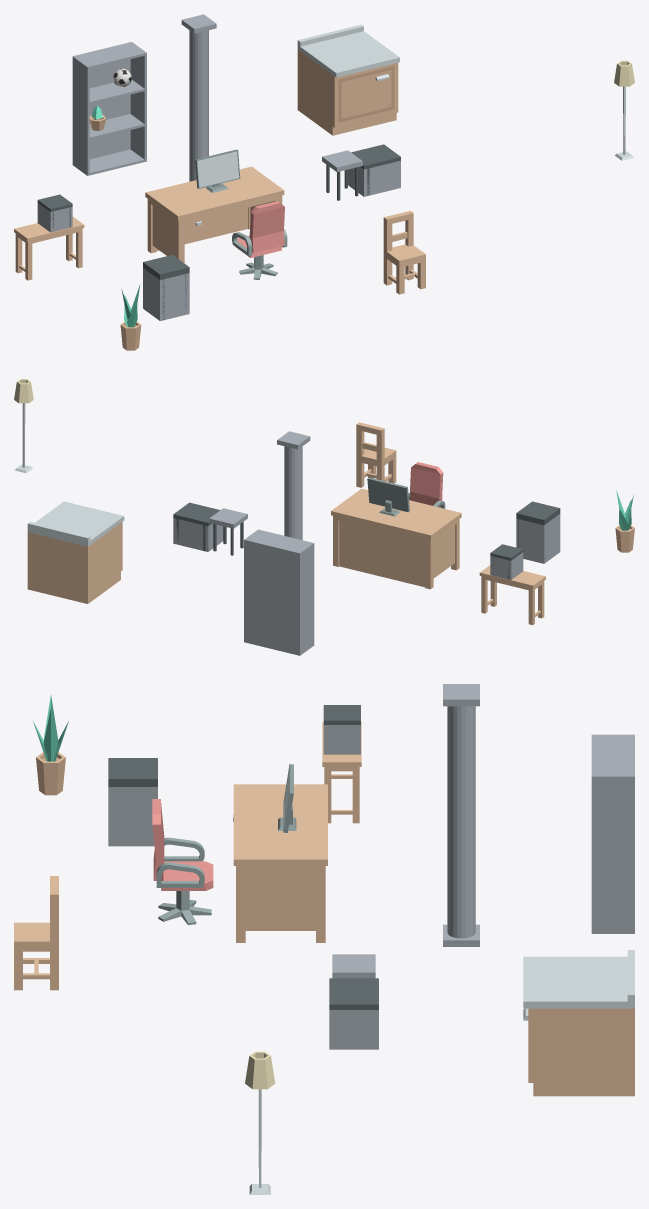
3 renders of one model, top to bottom at view 1: azimuth 30°, elevation 25°; view 2: azimuth 150°, elevation 25°; view 3: azimuth 270°, elevation 25°, orthographic. The views are drawn at different scales.
Visible parts, largest first — view 1: desk_blue__desk(Clone), cabinet_blue__kitchenCabinet(Clone), column_cyan__column_cyan shaft, cabinet_blue__door, chair_cyan__chair(Clone), shelf_orange__shelf_orange back, deskchair_black__chair, shelf_orange__shelf_orange side_l, bin_gray__bin_gray shell, sidetable_brown__sideTable(Clone), monitor_gray__computerScreen(Clone), shelf_orange__shelf_orange side_r (+11 smaller); view 2: desk_blue__desk(Clone), cabinet_blue__kitchenCabinet(Clone), shelf_orange__shelf_orange back, chair_cyan__chair(Clone), shelf_orange__shelf_orange side_l, column_cyan__column_cyan shaft, bin_gray__bin_gray shell, sidetable_brown__sideTable(Clone), deskchair_black__chair, monitor_gray__computerScreen(Clone), crate_red__crate_red shell, lamp_white__lampRoundFloor(Clone) (+7 smaller); view 3: cabinet_blue__kitchenCabinet(Clone), desk_blue__desk(Clone), shelf_orange__shelf_orange side_r, column_cyan__column_cyan shaft, deskchair_black__chair, chair_cyan__chair(Clone), bin_gray__bin_gray shell, crate_red__crate_red shell, sidetable_brown__sideTable(Clone), shelf_orange__shelf_orange board3, crate_red__crate_red lid, lamp_white__lampRoundFloor(Clone) (+9 smaller).
Boxes of the visible parts, x1,y1,x2,y2 form: desk_blue__desk(Clone): (145, 166, 284, 263); cabinet_blue__kitchenCabinet(Clone): (297, 24, 399, 135); column_cyan__column_cyan shaft: (189, 30, 208, 181); cabinet_blue__door: (338, 66, 394, 122); chair_cyan__chair(Clone): (383, 211, 425, 294); shelf_orange__shelf_orange back: (75, 42, 130, 158); deskchair_black__chair: (232, 201, 287, 257); shelf_orange__shelf_orange side_l: (72, 55, 89, 175); bin_gray__bin_gray shell: (143, 268, 189, 320); sidetable_brown__sideTable(Clone): (14, 216, 84, 280); monitor_gray__computerScreen(Clone): (195, 149, 240, 192); shelf_orange__shelf_orange side_r: (130, 42, 146, 161); desk_blue__desk(Clone): (331, 488, 461, 589); cabinet_blue__kitchenCabinet(Clone): (27, 501, 124, 603); shelf_orange__shelf_orange back: (246, 540, 298, 655); chair_cyan__chair(Clone): (356, 422, 396, 487); shelf_orange__shelf_orange side_l: (298, 542, 314, 655); column_cyan__column_cyan shaft: (284, 446, 302, 540); bin_gray__bin_gray shell: (516, 514, 560, 563); sidetable_brown__sideTable(Clone): (479, 565, 545, 625); deskchair_black__chair: (408, 462, 445, 508); monitor_gray__computerScreen(Clone): (367, 477, 409, 516); crate_red__crate_red shell: (173, 518, 223, 551); lamp_white__lampRoundFloor(Clone): (14, 379, 33, 473); cabinet_blue__kitchenCabinet(Clone): (523, 950, 634, 1096); desk_blue__desk(Clone): (233, 784, 327, 942); shelf_orange__shelf_orange side_r: (591, 775, 634, 933); column_cyan__column_cyan shaft: (447, 706, 475, 938); deskchair_black__chair: (152, 799, 213, 890); chair_cyan__chair(Clone): (14, 876, 58, 990); bin_gray__bin_gray shell: (108, 787, 157, 846); crate_red__crate_red shell: (329, 1010, 378, 1049); sidetable_brown__sideTable(Clone): (322, 722, 361, 823); shelf_orange__shelf_orange board3: (591, 736, 632, 774); crate_red__crate_red lid: (329, 978, 378, 1009); lamp_white__lampRoundFloor(Clone): (245, 1051, 275, 1194).
Bounding box in the file's own units: 7.86 × 2.2 × 5.01.
